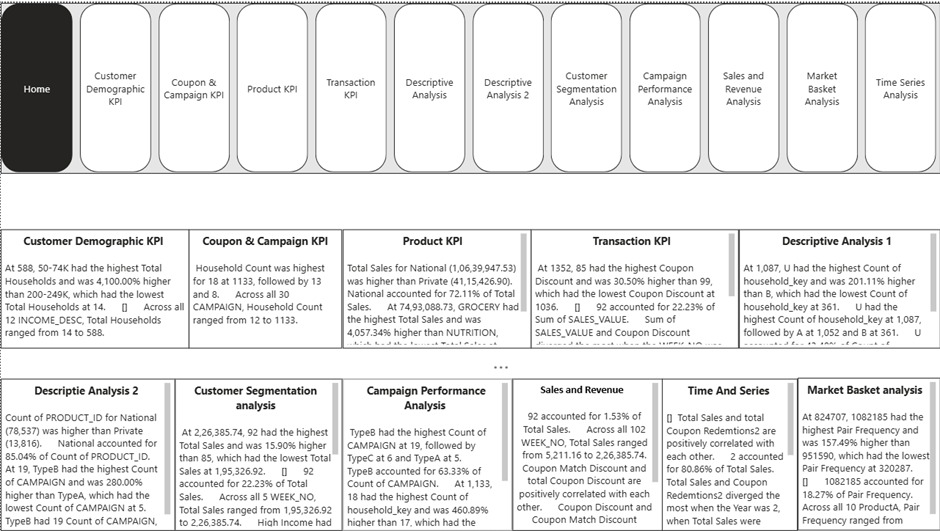

Layout of this report page (visuals, bound fields, positions):
{"tool":"powerbi","page":{"name":"Home","canvas":[1280,720],"ordinal":0},"visuals":[{"type":"pageNavigator","box":[0,0,1280.6,232.8],"z":0},{"type":"textbox","box":[0,309,256.7,162.7],"z":1000},{"type":"textbox","box":[256.7,309,209,162.7],"z":2000},{"type":"textbox","box":[465.7,309,256.7,162.7],"z":3000},{"type":"textbox","box":[722.4,309,283.6,162.7],"z":4000},{"type":"textbox","box":[1006,309,274.6,162.7],"z":5000},{"type":"textbox","box":[0,511.9,237.3,207.5],"z":6000},{"type":"textbox","box":[237.3,511.9,228.4,207.5],"z":7000},{"type":"textbox","box":[465.7,511.9,231.3,207.5],"z":8000},{"type":"textbox","box":[697,511.9,204.5,207.5],"z":9000},{"type":"textbox","box":[901.5,511.9,185.1,207.5],"z":10000},{"type":"textbox","box":[1085.8,511.2,194.5,207.7],"z":11000}]}

Visuals, with their boxes in screenshot pixels (x1, y1, x2, y2), scaled from the page's 1280x720 canvas onto the 940x531 screenshot:
pageNavigator: [left=0, top=0, right=939, bottom=172]
textbox: [left=0, top=228, right=189, bottom=348]
textbox: [left=189, top=228, right=342, bottom=348]
textbox: [left=342, top=228, right=531, bottom=348]
textbox: [left=531, top=228, right=739, bottom=348]
textbox: [left=739, top=228, right=939, bottom=348]
textbox: [left=0, top=378, right=174, bottom=530]
textbox: [left=174, top=378, right=342, bottom=530]
textbox: [left=342, top=378, right=512, bottom=530]
textbox: [left=512, top=378, right=662, bottom=530]
textbox: [left=662, top=378, right=798, bottom=530]
textbox: [left=797, top=377, right=939, bottom=530]
